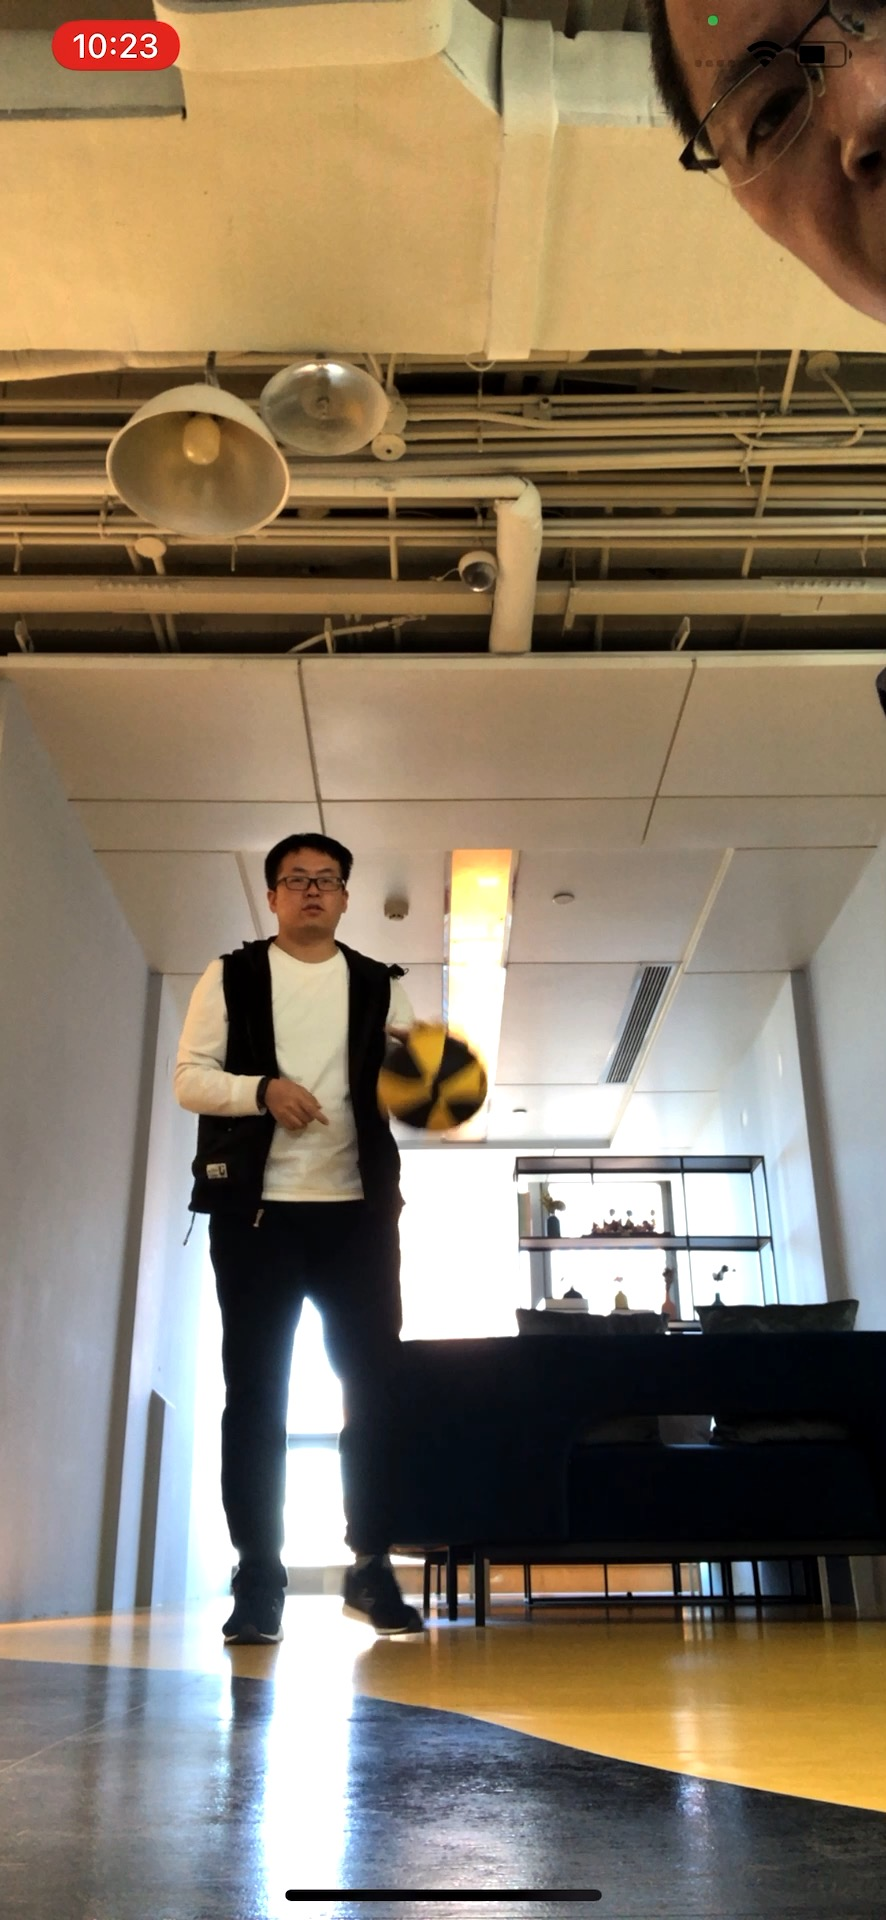ball: (372, 1031, 488, 1133)
